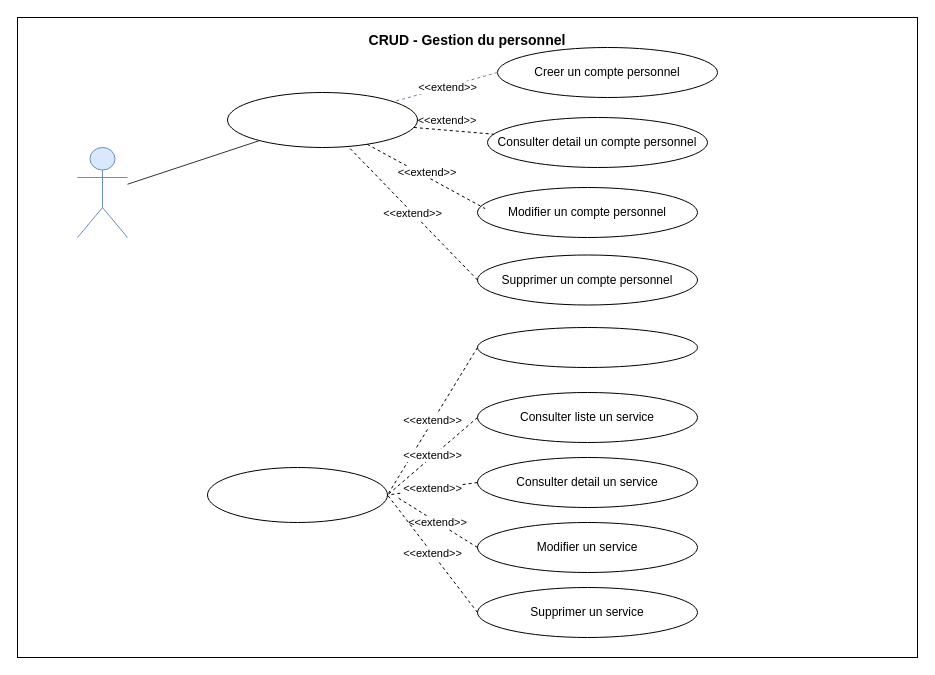
Some shapes in this 935 by 675 pixel diagram are drawn without their labels. The shapes that lost their labels are listed below. From the top down, each one's centre as x and y in pixels, then its label:
(x=322, y=120): Gerer personnel
(x=102, y=192): Administrateur clinique
(x=587, y=347): Creer un service
(x=297, y=494): Gerer services medicaux
